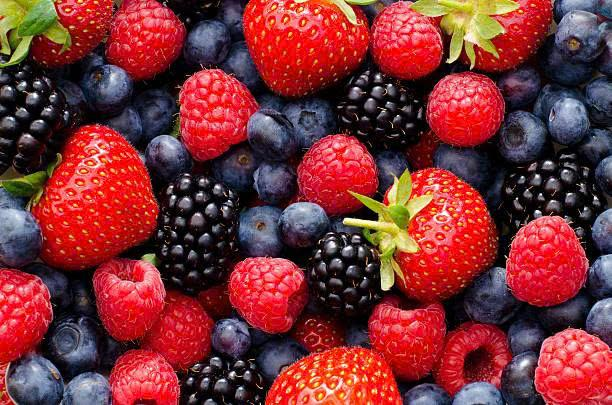strawberry: (35, 125, 158, 259), (385, 167, 501, 289), (238, 0, 373, 94), (265, 347, 405, 405)
